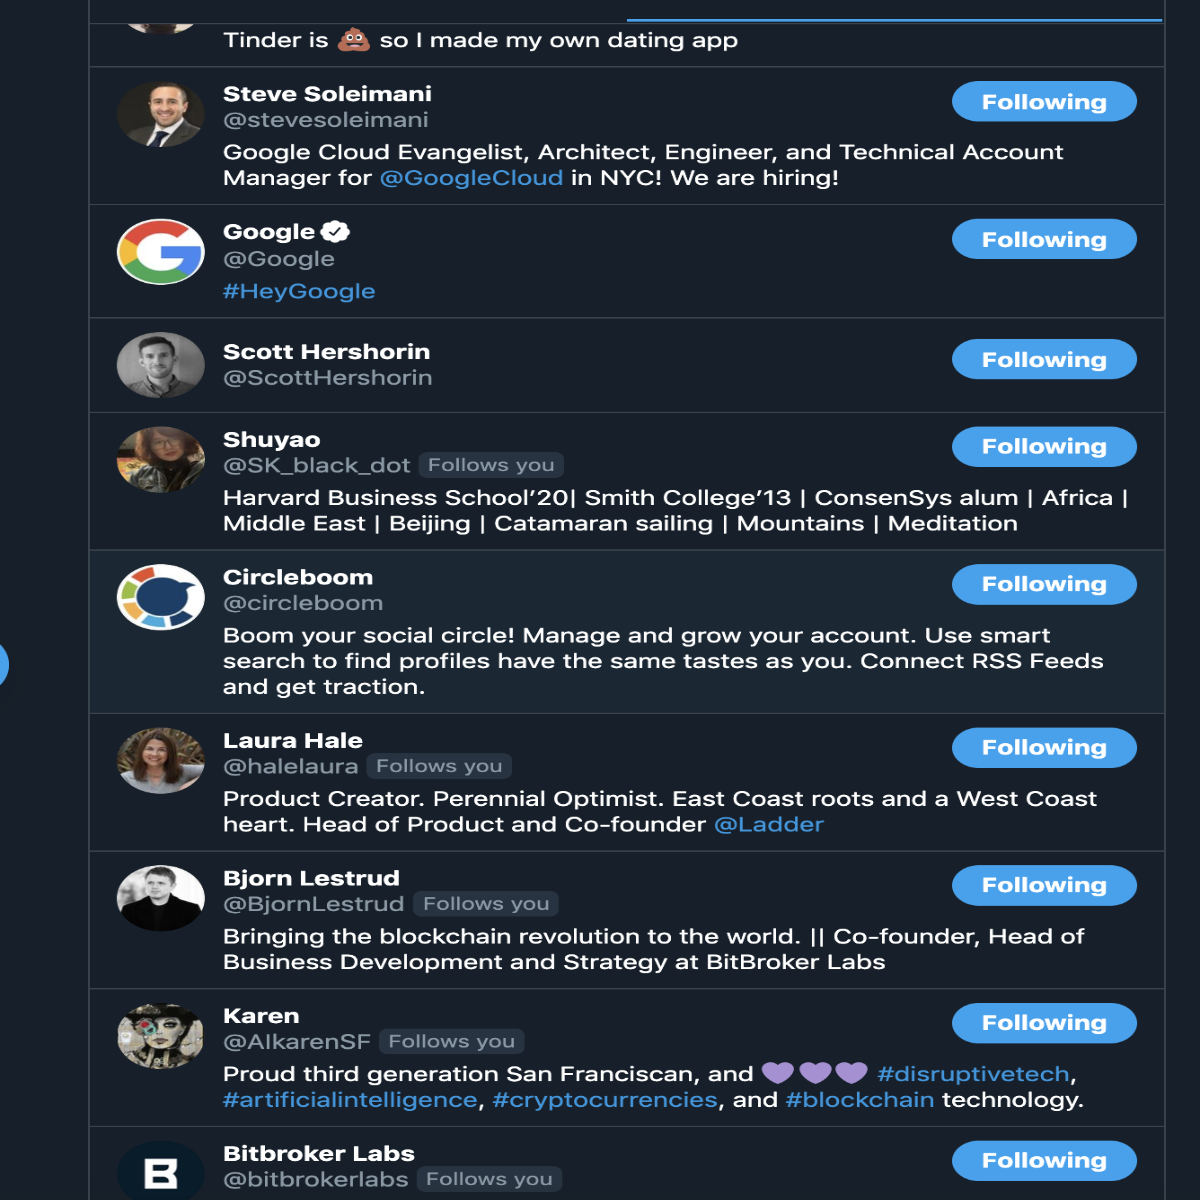button: (952, 79, 1138, 126), (952, 336, 1138, 384), (952, 724, 1138, 771), (952, 999, 1138, 1046), (952, 423, 1140, 469), (951, 862, 1138, 908), (951, 1138, 1138, 1185), (953, 215, 1140, 262), (953, 560, 1140, 607)
